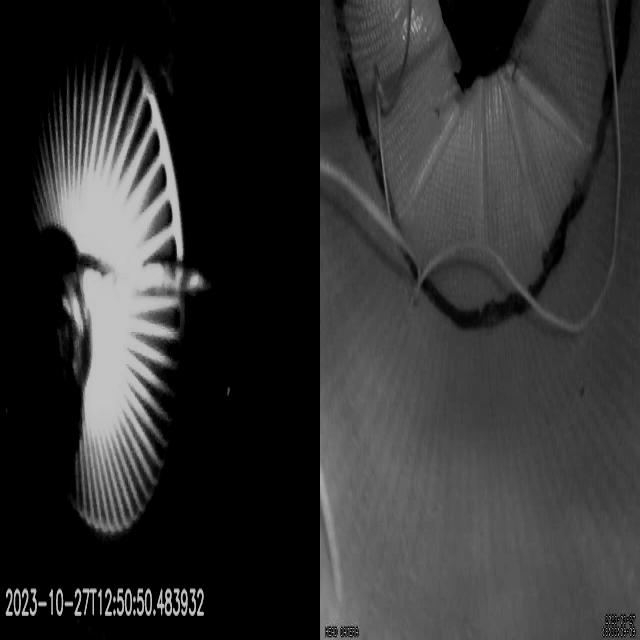red-circle: (332, 0, 632, 332)
